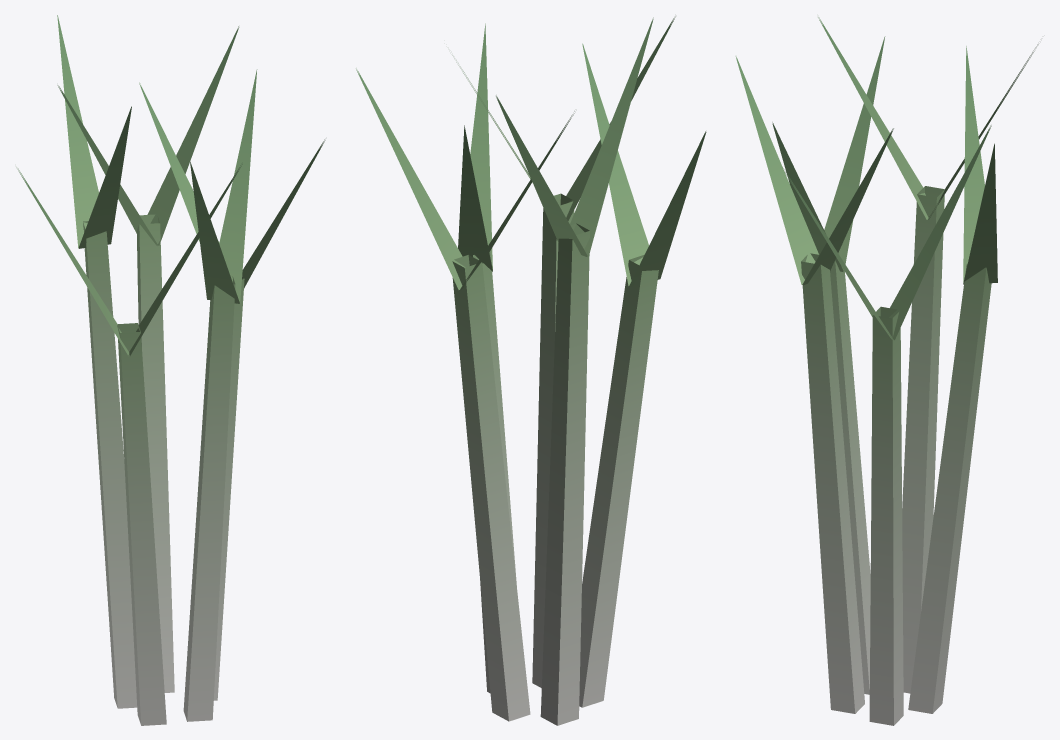
File: negi.glb
3 renders of one model, left to right at view 1: azimuth 30°, elevation 25°; view 2: azimuth 150°, elevation 25°; view 3: azimuth 270°, elevation 25°, orthographic. The views are drawn at different scales.
Visible parts, largest first — view 1: Static; view 2: Static; view 3: Static.
Boxes of the visible parts, x1,y1,x2,y2 form: Static: [16, 15, 325, 725]; Static: [356, 16, 706, 725]; Static: [735, 17, 1038, 725].
Bounding box in the file's own units: 0.2831 × 0.62 × 0.2676.
